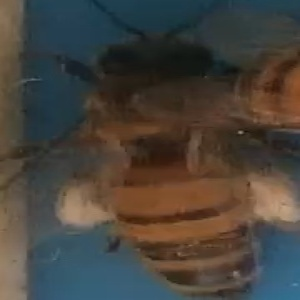bee: (50, 2, 260, 297)
